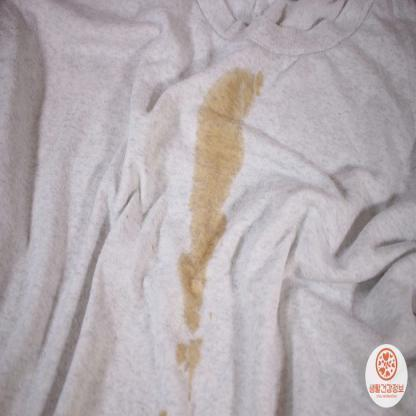coffee: (196, 134, 236, 188), (210, 75, 248, 129), (192, 192, 223, 242), (182, 252, 202, 329)
